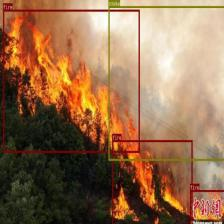fire: (3, 10, 139, 152), (112, 140, 192, 224), (189, 189, 224, 223)
smoke: (108, 6, 224, 160)
